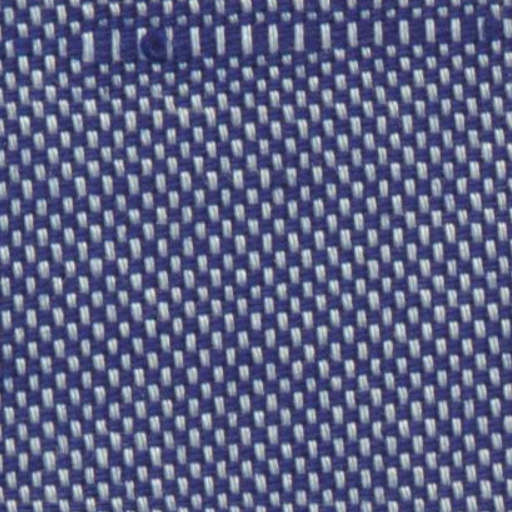DaiSha: (68, 16, 472, 74)
